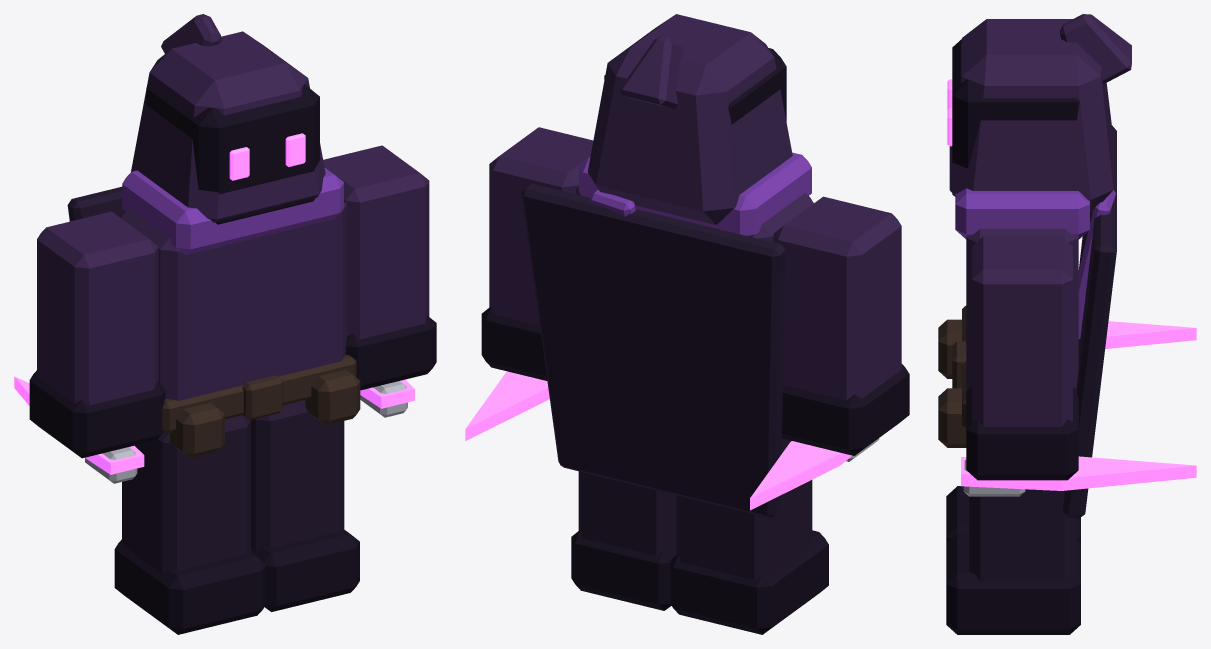
File: Rogue.fbx
3 renders of one model, left to right at view 1: azimuth 30°, elevation 25°; view 2: azimuth 150°, elevation 25°; view 3: azimuth 270°, elevation 25°, orthographic. The views are drawn at different scales.
Visible parts, largest first — view 1: Torso, RightArm, Hood, RightLeg, LeftArm, LeftLeg, Head, RightLegBoot, Scarf, RightArmGlove, LeftLegBoot, Pouches (+8 smaller); view 2: Cloak, Hood, RightArm, LeftArm, RightLeg, RightLegBoot, RightArmGlove, LeftLeg, LeftLegBoot, Scarf, LeftArmGlove, RightArmDagger (+3 smaller); view 3: Hood, LeftArm, LeftLeg, LeftLegBoot, Cloak, LeftArmGlove, Scarf, Head, LeftArmDagger, Torso, Pouches, RightArmDagger (+4 smaller).
Boxes of the visible parts, x1,y1,x2,y2 form: Torso: [120, 202, 346, 400]; RightArm: [37, 211, 158, 405]; Hood: [131, 14, 325, 222]; RightLeg: [122, 415, 250, 574]; LeftArm: [323, 145, 429, 339]; LeftLeg: [250, 400, 344, 551]; Head: [146, 84, 319, 224]; RightLegBoot: [114, 539, 265, 634]; Scarf: [122, 168, 343, 254]; RightArmGlove: [29, 370, 165, 458]; LeftLegBoot: [251, 528, 359, 611]; Pouches: [170, 369, 360, 458]; Cloak: [521, 183, 785, 517]; Hood: [587, 14, 792, 224]; RightArm: [773, 196, 901, 400]; LeftArm: [489, 127, 593, 325]; RightLeg: [676, 438, 812, 579]; RightLegBoot: [670, 530, 828, 634]; RightArmGlove: [781, 364, 909, 455]; LeftLeg: [578, 471, 676, 555]; LeftLegBoot: [571, 529, 676, 610]; Scarf: [579, 152, 811, 237]; LeftArmGlove: [481, 306, 547, 380]; RightArmDagger: [750, 441, 851, 510]; Hood: [949, 14, 1131, 211]; LeftArm: [972, 236, 1072, 426]; LeftLeg: [969, 489, 1075, 581]; LeftLegBoot: [946, 533, 1080, 634]; Cloak: [1063, 125, 1116, 518]; LeftArmGlove: [966, 387, 1078, 480]; Scarf: [955, 188, 1115, 339]; Head: [952, 39, 1079, 196]; LeftArmDagger: [961, 456, 1196, 490]; Torso: [966, 228, 1078, 391]; Pouches: [938, 319, 966, 447]; RightArmDagger: [961, 319, 1196, 348].
Size of the model in its own units: 3.9 by 5.66 by 2.3.
